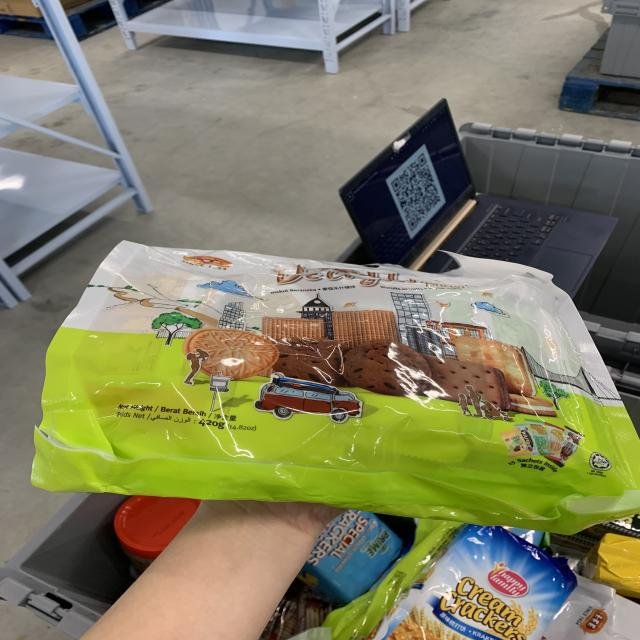object_name: (67, 242, 625, 509)
